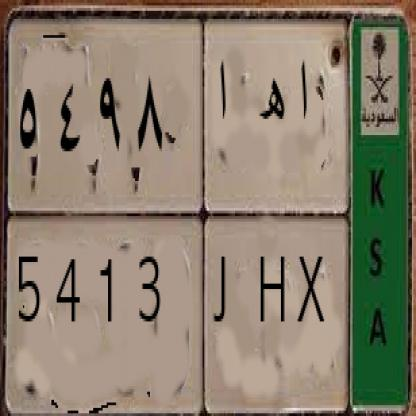english: (4, 212, 355, 407)
